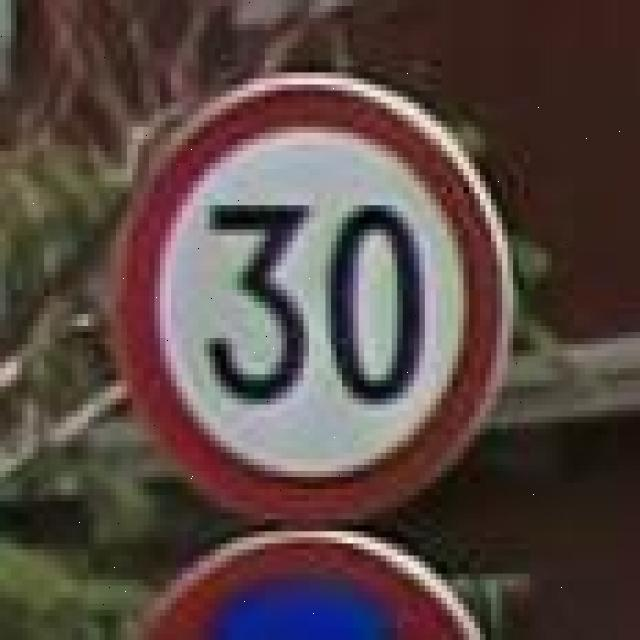speed limit 30: (116, 74, 509, 524)
